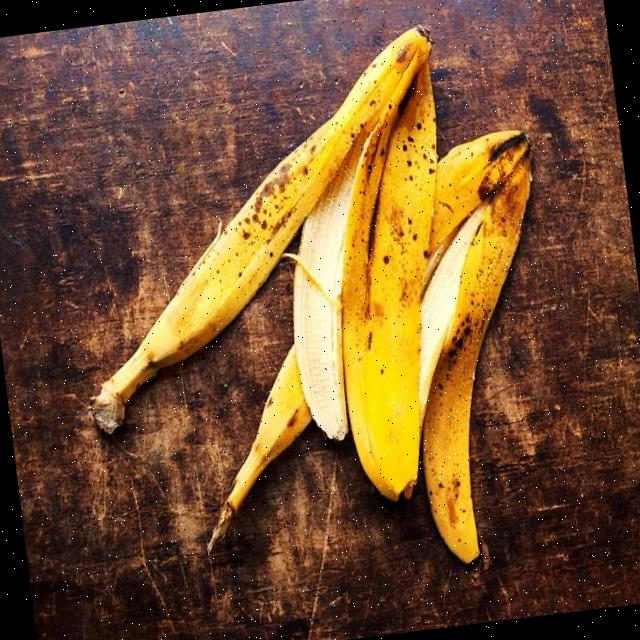banana-peel: (45, 10, 581, 608), (381, 124, 581, 568)
